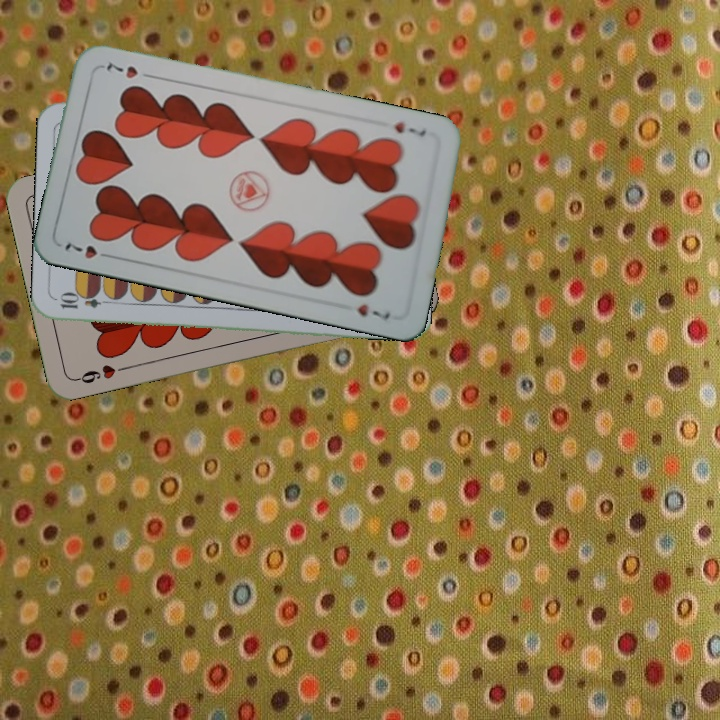E10: (56, 293, 115, 311)
H7: (60, 238, 116, 262), (390, 118, 429, 140)
H9: (71, 360, 130, 386)
